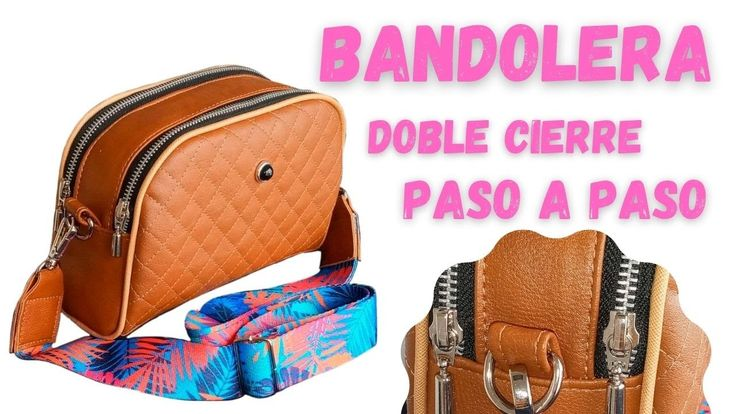cuero: (12, 64, 711, 414)
